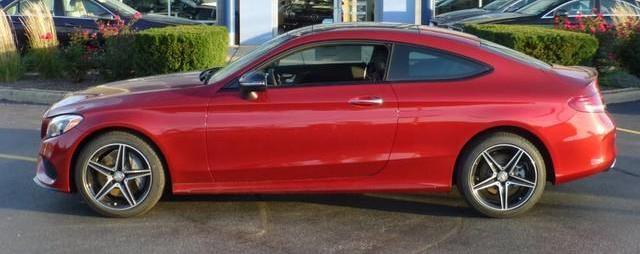C300Coupe: (21, 13, 622, 238)
